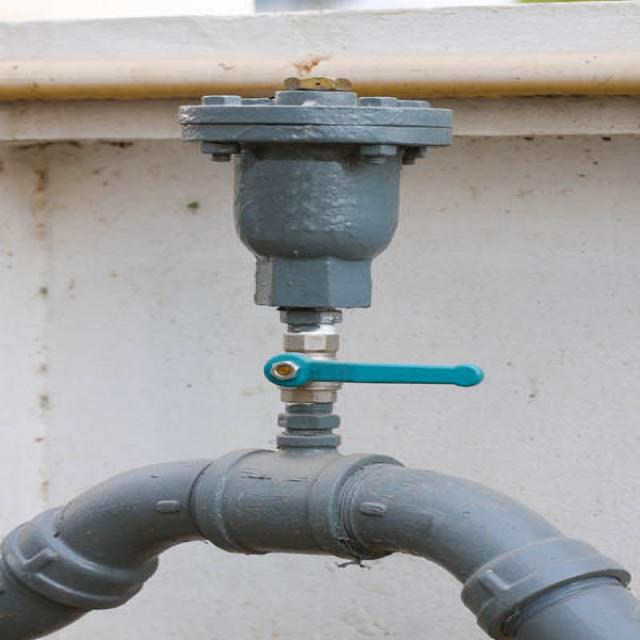closed valve: (252, 319, 486, 415)
